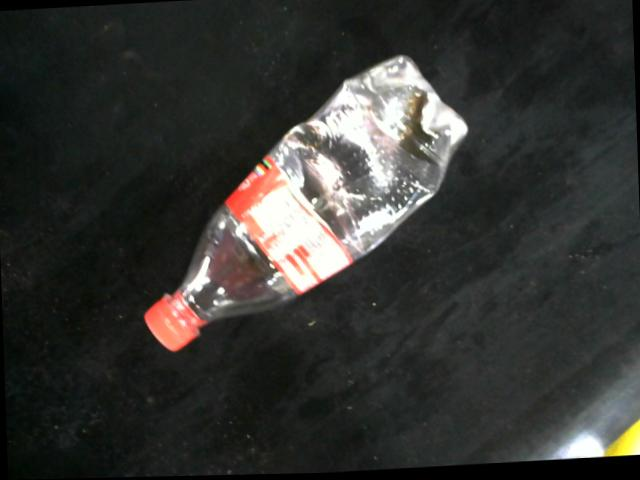bottle: (142, 56, 470, 356)
